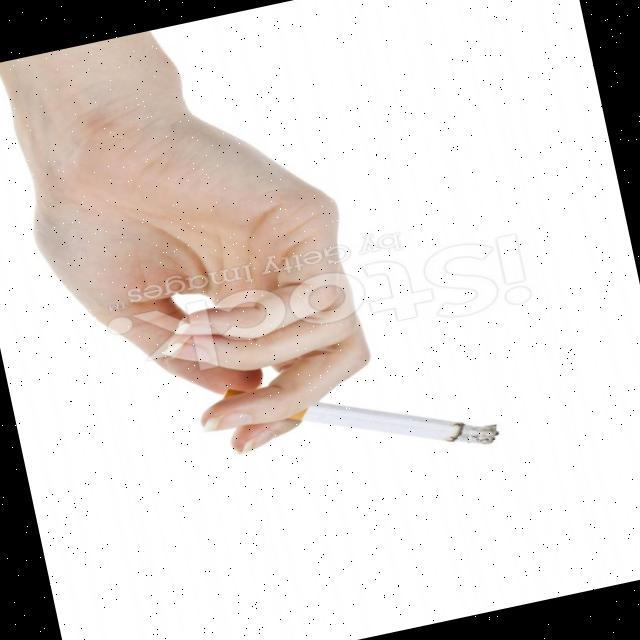cigarette: (281, 364, 508, 487)
